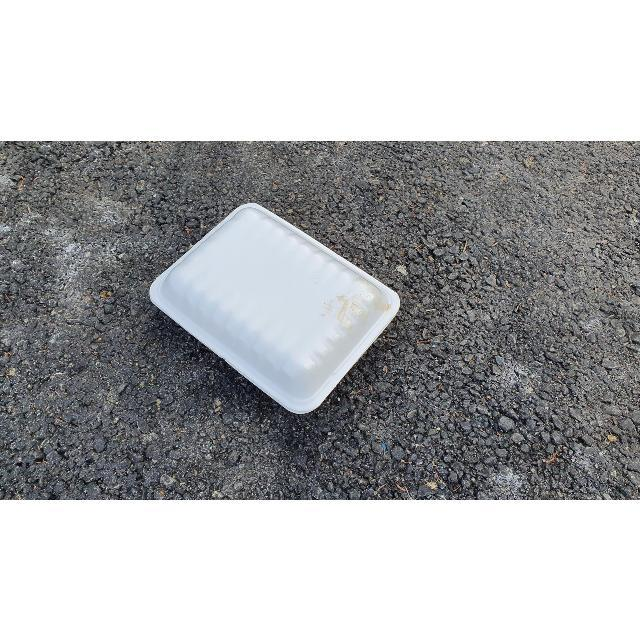Plastico descartable: (147, 204, 401, 417)
